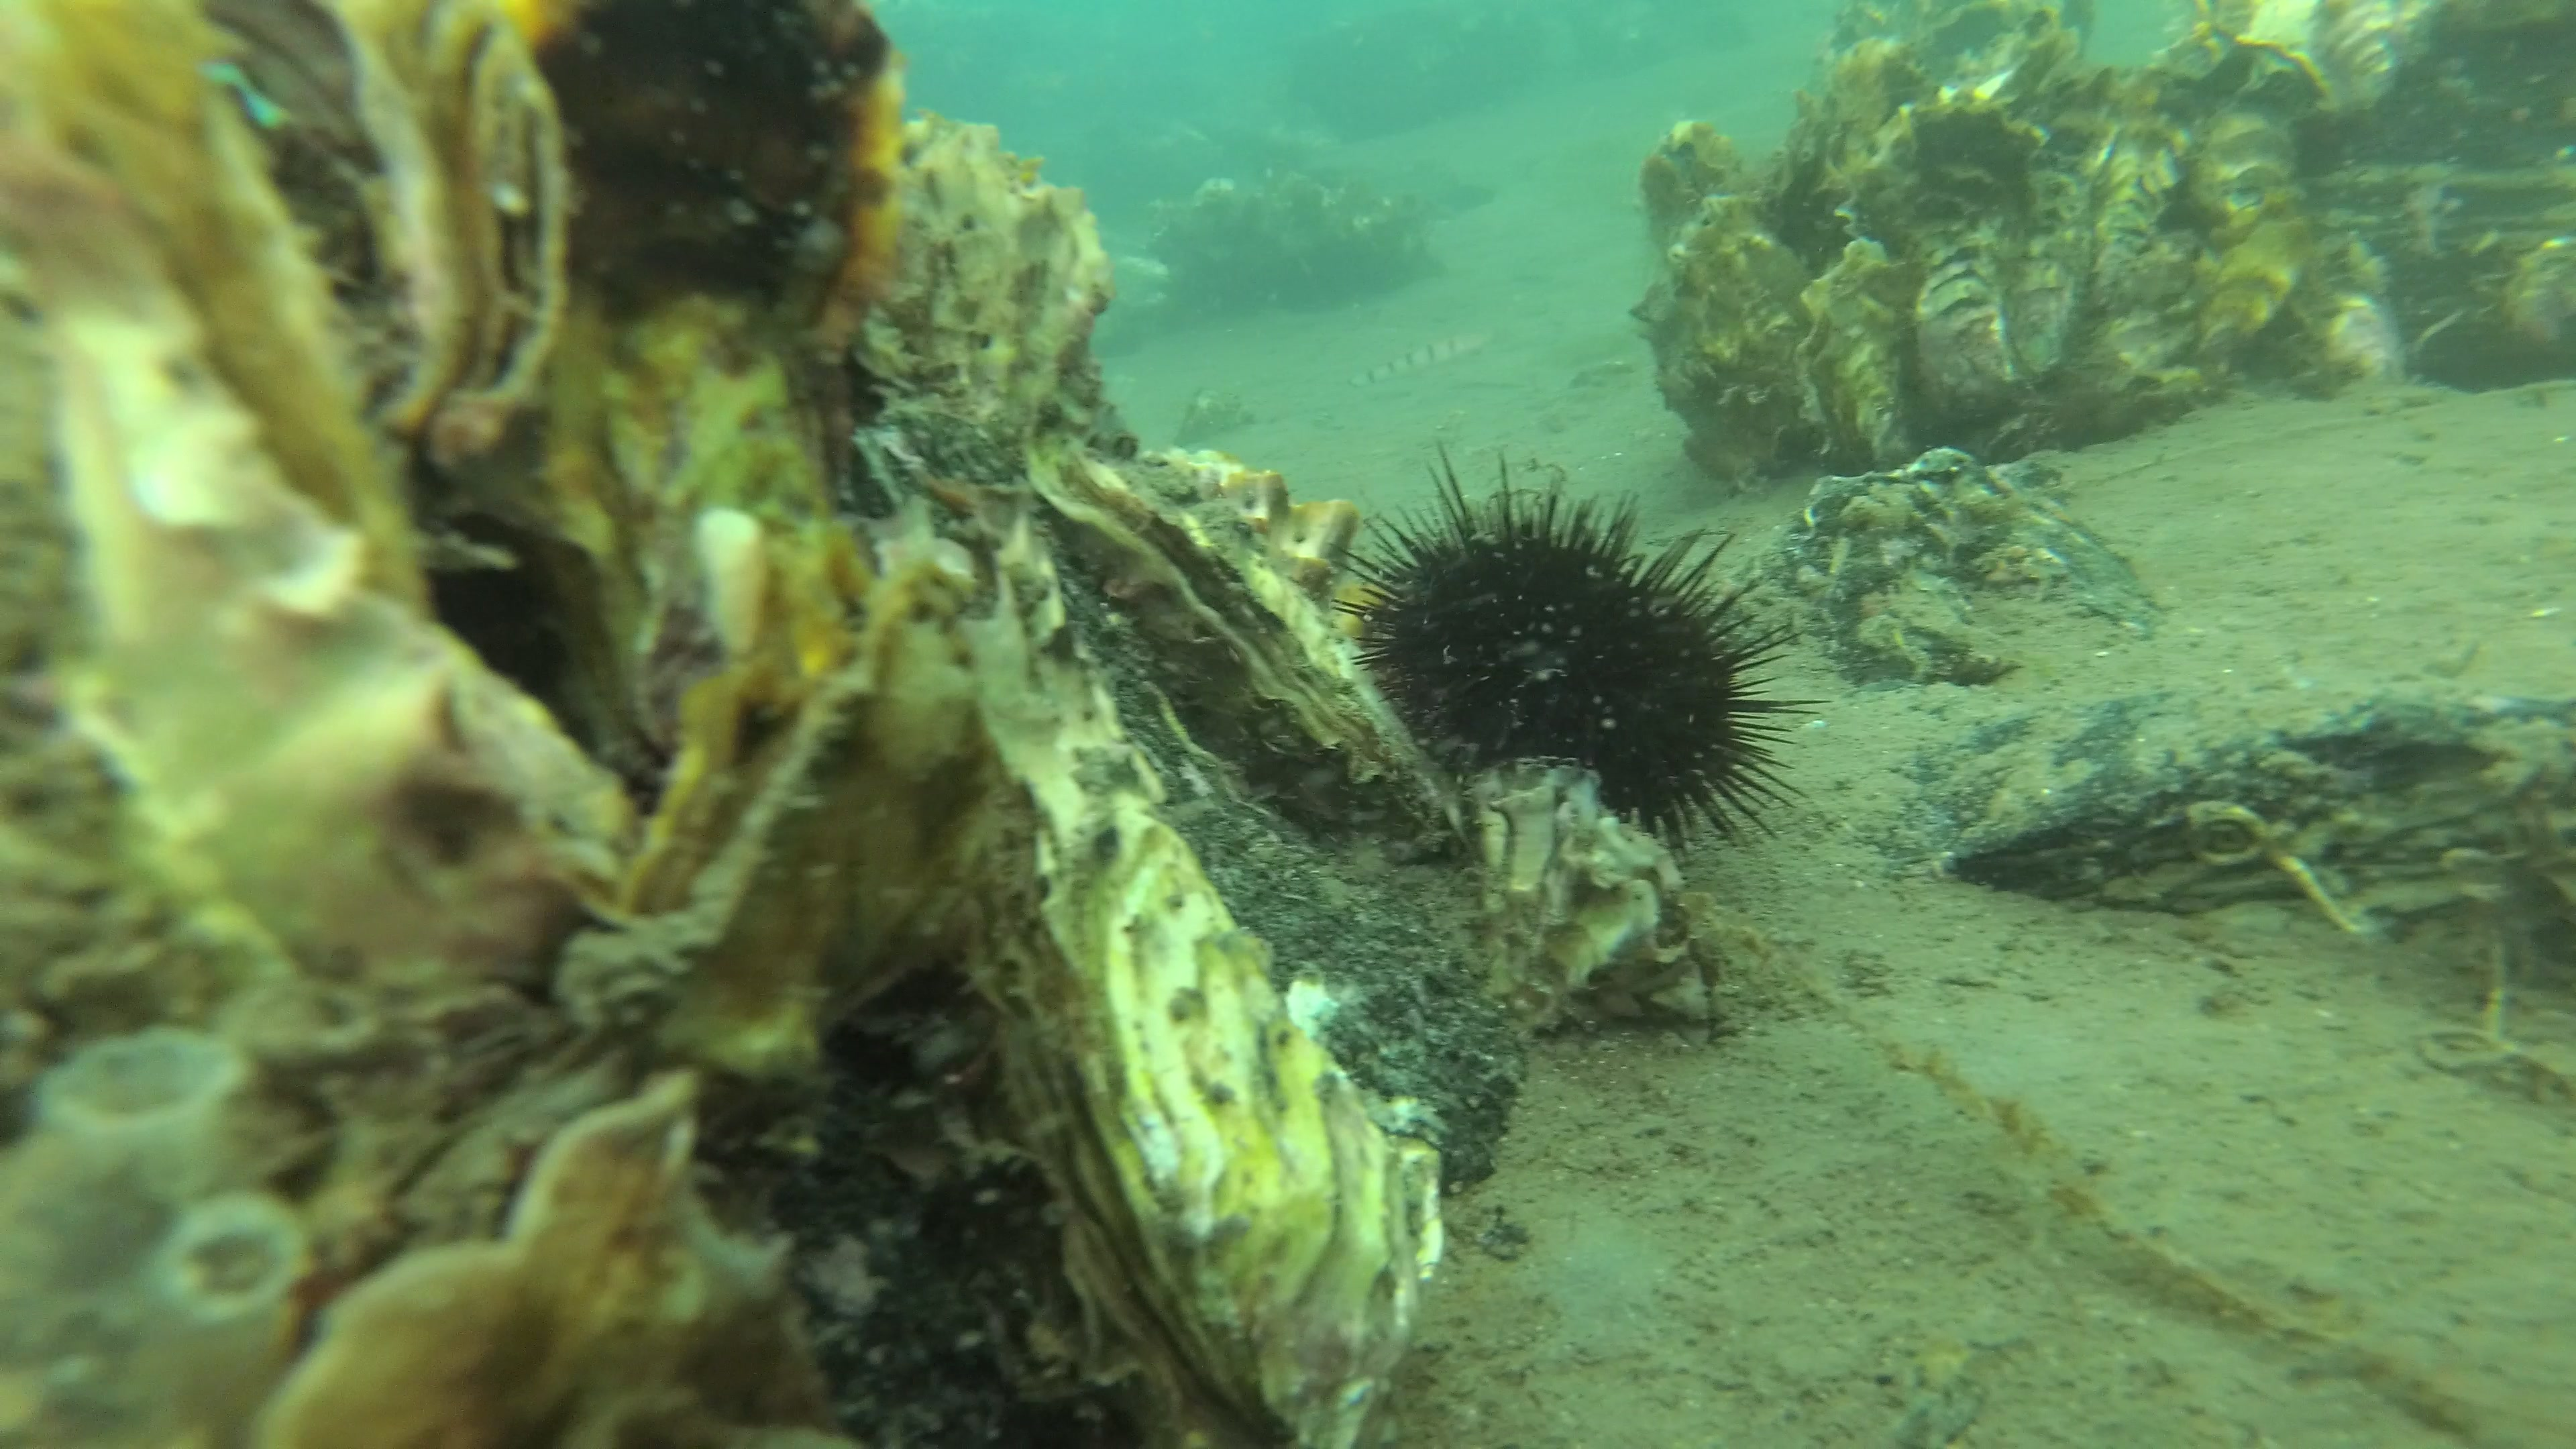echinus: (1325, 428, 1840, 872)
